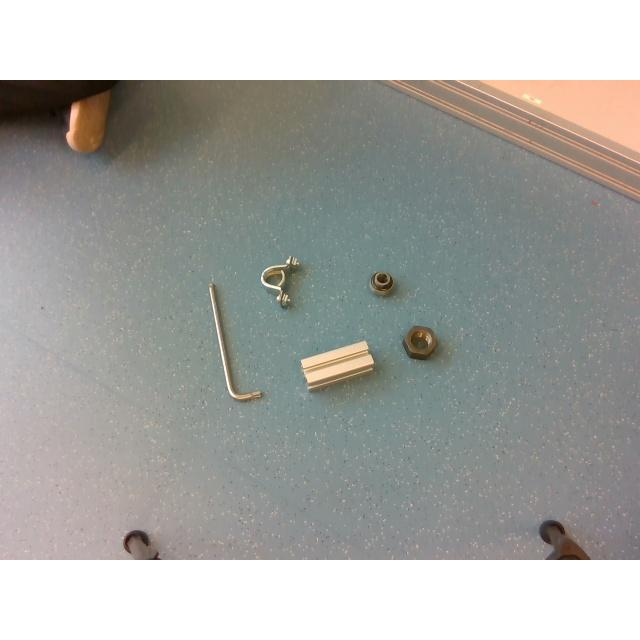AllenKey: (208, 284, 264, 401)
Bearing2: (370, 271, 394, 293)
Housing: (260, 257, 300, 307)
M30: (403, 326, 437, 358)
S40_40_G: (302, 341, 374, 389)
